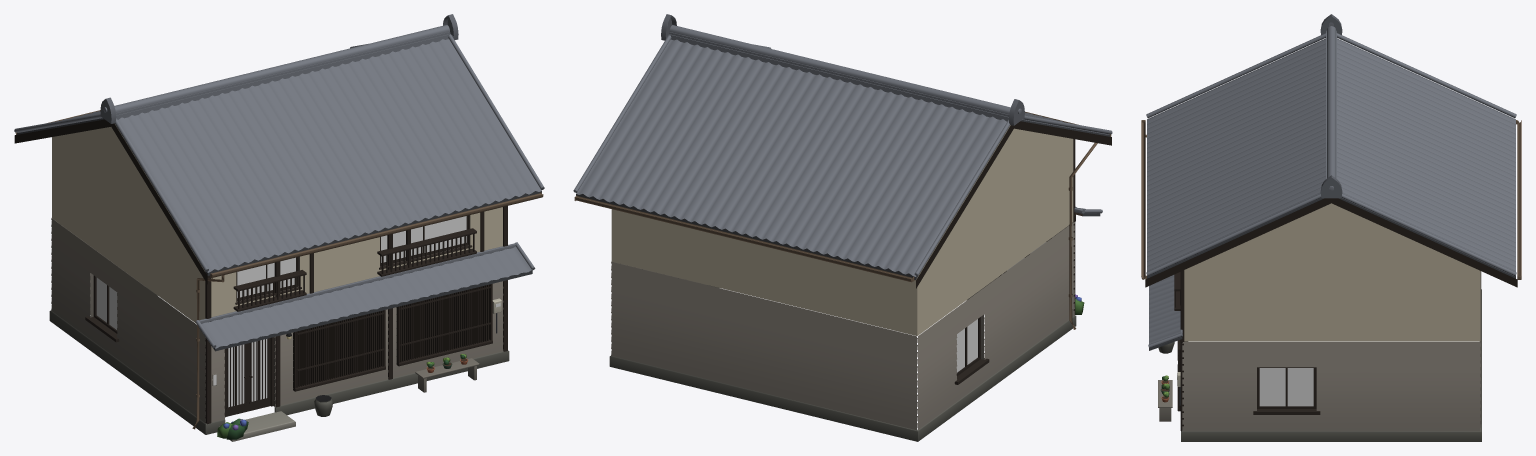
File: HouseOldKM.fbx
3 views of the same model, side by side, from view 1: azimuth 30°, elevation 25°; view 2: azimuth 150°, elevation 25°; view 3: azimuth 270°, elevation 25° (orthographic). The views are drawn at different scales.
Parts seen in each view (by area): view 1: HouseOldKM; view 2: HouseOldKM; view 3: HouseOldKM.
Part boxes in pixels (bbox=[...]): HouseOldKM: bbox=[14, 14, 544, 441]; HouseOldKM: bbox=[573, 14, 1112, 441]; HouseOldKM: bbox=[1141, 14, 1521, 441].
Bounding box in the file's own units: 10.48 × 8.14 × 10.21.
